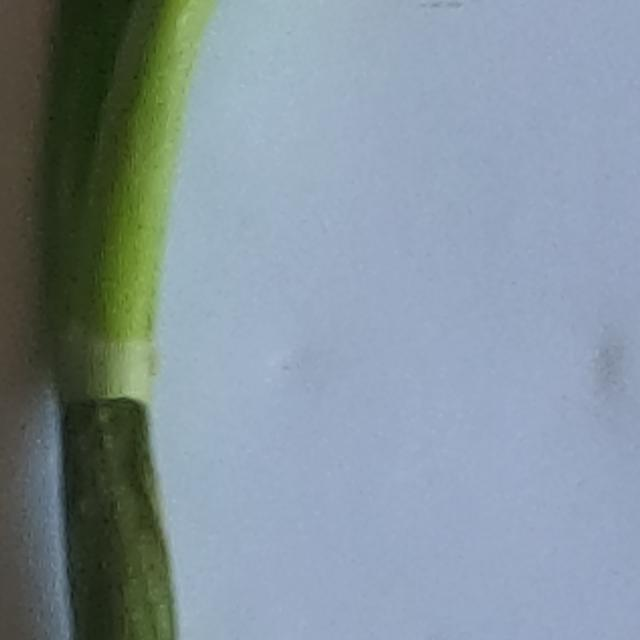green_onion: (30, 0, 230, 640)
